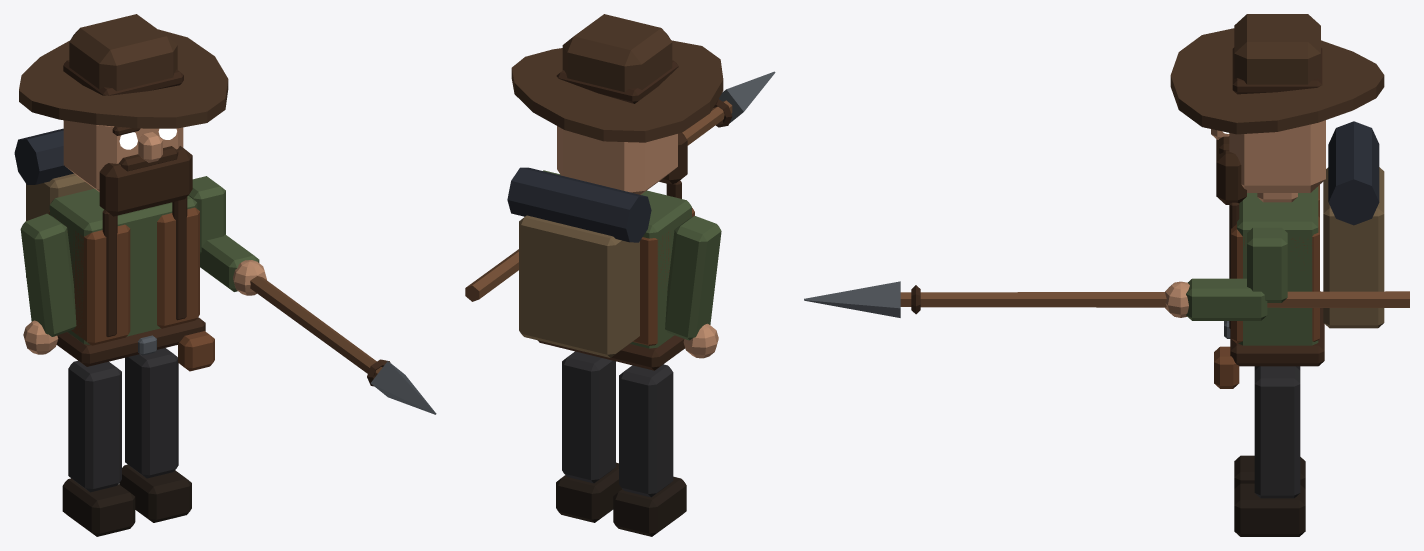
The model's file is hunter_forest.glb.
The picture shows the model from 3 angles, left to right: view 1: azimuth 30°, elevation 25°; view 2: azimuth 150°, elevation 25°; view 3: azimuth 270°, elevation 25°; orthographic projection.
Visible parts, largest first — view 1: Hunter, Arm; view 2: Hunter, Arm; view 3: Hunter, Arm.
Part boxes in pixels (box(x1,y1,x2,y2)): Hunter: box(14, 14, 228, 536); Arm: box(188, 176, 436, 414); Hunter: box(507, 14, 723, 536); Arm: box(465, 71, 775, 301); Hunter: box(1170, 14, 1384, 536); Arm: box(804, 227, 1409, 320).
Bounding box in the file's own units: 0.446 × 1.05 × 1.19.
